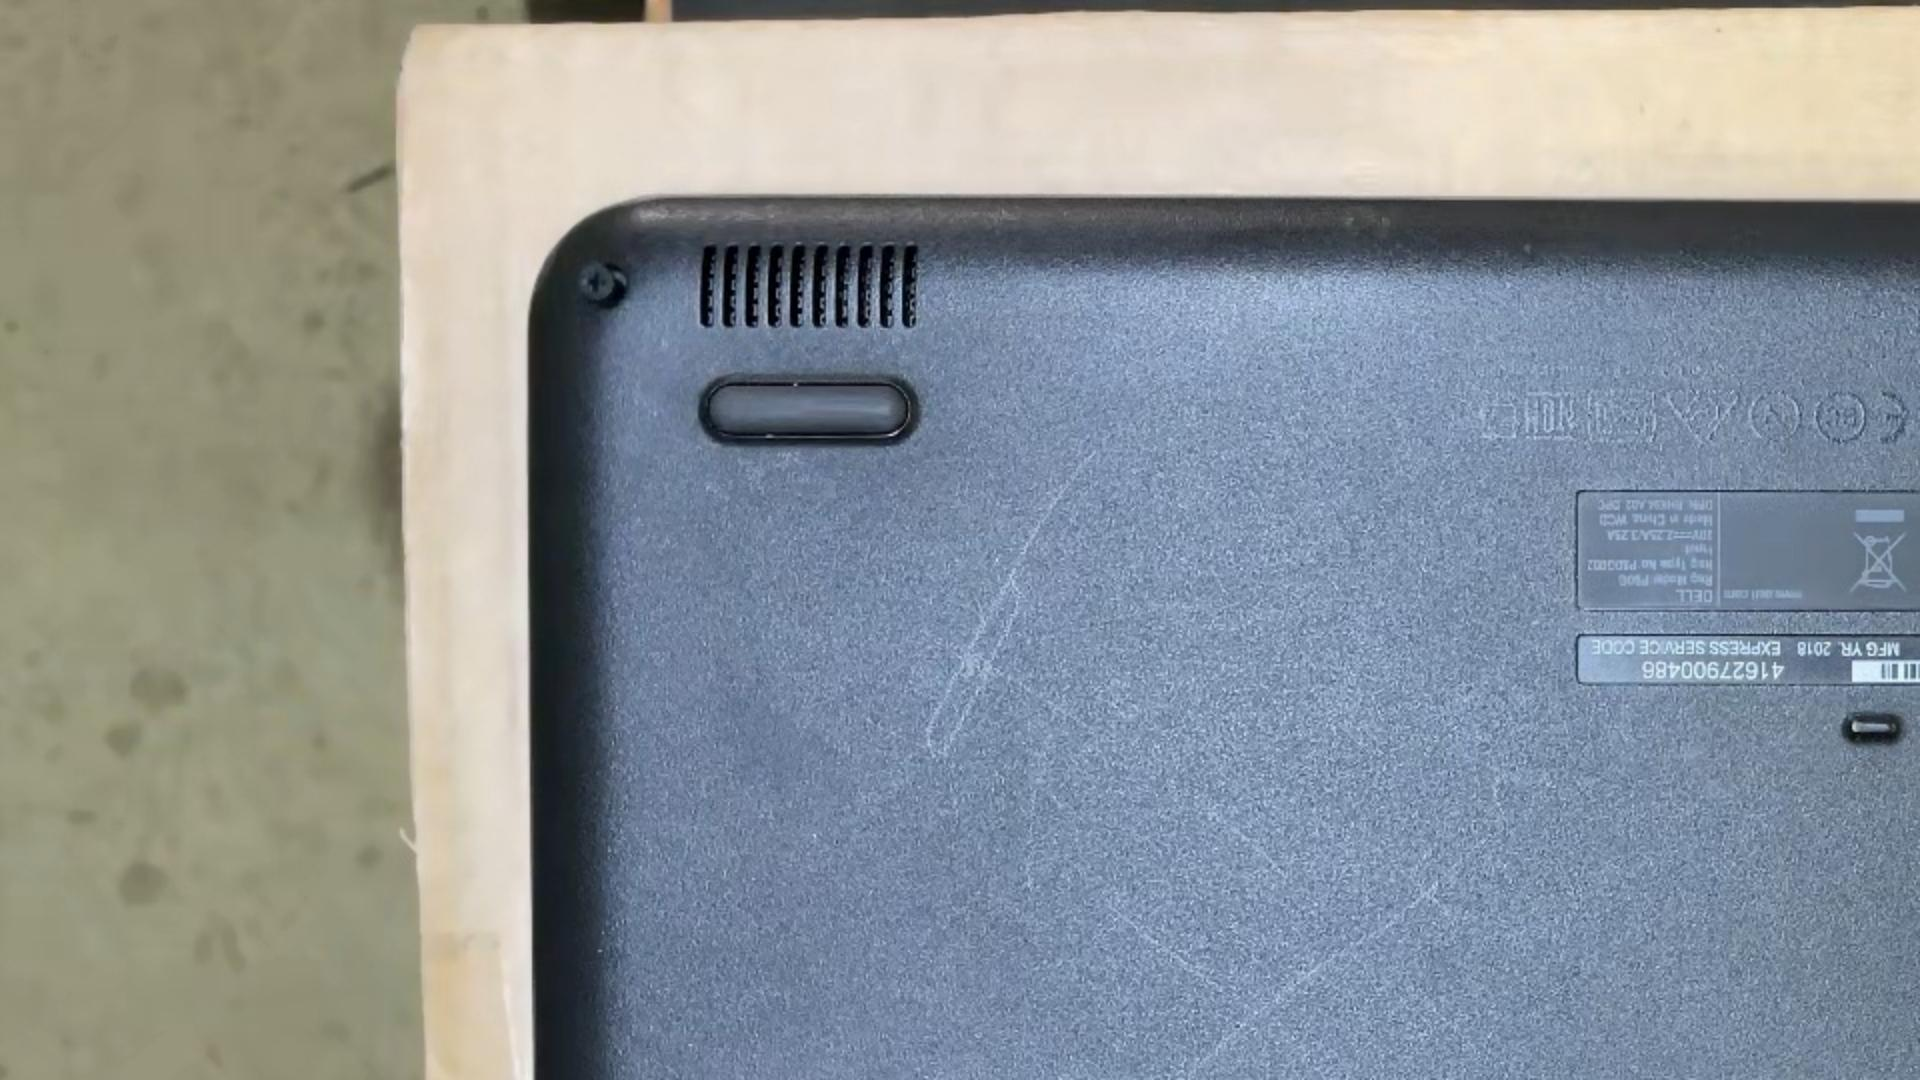scratches: (1169, 835, 1495, 1080), (924, 445, 1102, 759), (918, 626, 1101, 738), (935, 583, 1023, 762), (1102, 900, 1222, 990), (1215, 815, 1298, 883), (860, 713, 951, 759), (1391, 863, 1457, 917), (1026, 784, 1041, 897)
